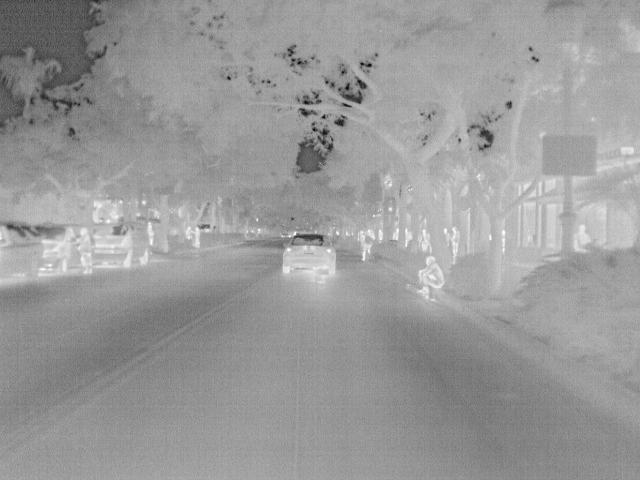car: (0, 222, 48, 280), (278, 230, 338, 274), (96, 220, 150, 268), (36, 222, 76, 278)
person: (413, 257, 445, 297), (74, 226, 96, 270), (572, 222, 592, 252), (416, 227, 436, 256), (448, 225, 462, 258), (358, 228, 372, 260), (191, 225, 202, 248), (184, 225, 193, 240)
